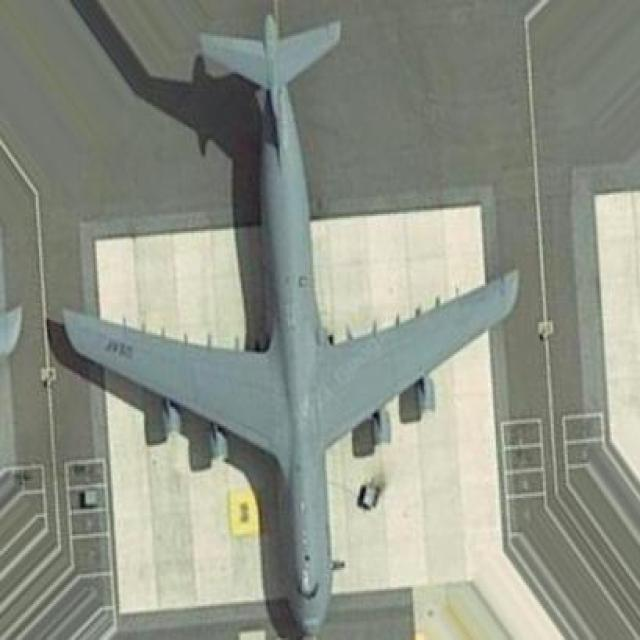C-5_TopDown: (46, 14, 524, 638)
